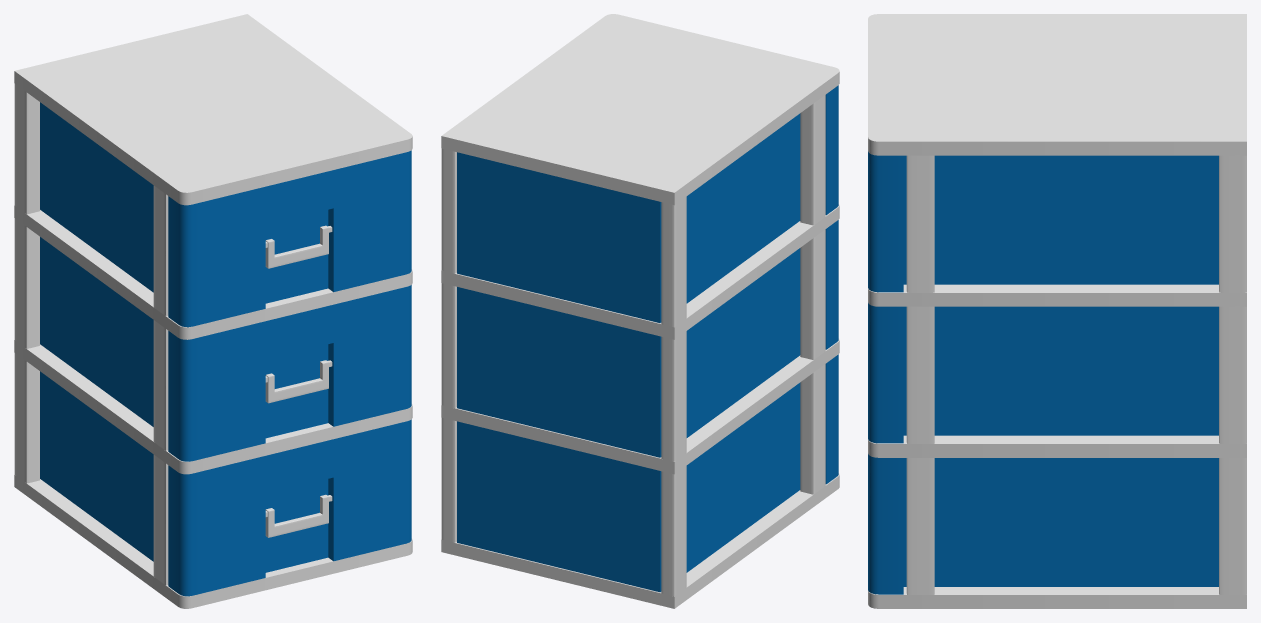
File: Drawer25.fbx
The picture shows the model from 3 angles, left to right: view 1: azimuth 30°, elevation 25°; view 2: azimuth 150°, elevation 25°; view 3: azimuth 270°, elevation 25°; orthographic projection. The views are drawn at different scales.
Parts seen in each view (by area): view 1: Drawer25_Body, Drawer24_2.001, Drawer24_3.001, Drawer24_1.001; view 2: Drawer25_Body, Drawer24_3.001, Drawer24_1.001, Drawer24_2.001; view 3: Drawer25_Body, Drawer24_2.001, Drawer24_1.001, Drawer24_3.001.
Boxes of the visible parts, x1=… form: Drawer25_Body: x1=14, y1=14, x2=412, y2=608; Drawer24_2.001: x1=40, y1=237, x2=411, y2=461; Drawer24_3.001: x1=40, y1=371, x2=411, y2=596; Drawer24_1.001: x1=40, y1=102, x2=411, y2=327; Drawer25_Body: x1=441, y1=14, x2=839, y2=608; Drawer24_3.001: x1=457, y1=354, x2=838, y2=592; Drawer24_1.001: x1=457, y1=85, x2=838, y2=322; Drawer24_2.001: x1=457, y1=220, x2=838, y2=457; Drawer25_Body: x1=868, y1=14, x2=1246, y2=608; Drawer24_2.001: x1=868, y1=303, x2=1218, y2=443; Drawer24_1.001: x1=868, y1=151, x2=1218, y2=292; Drawer24_3.001: x1=868, y1=454, x2=1218, y2=594.
Size of the model in its own units: 33.6 by 57.31 by 42.12.
